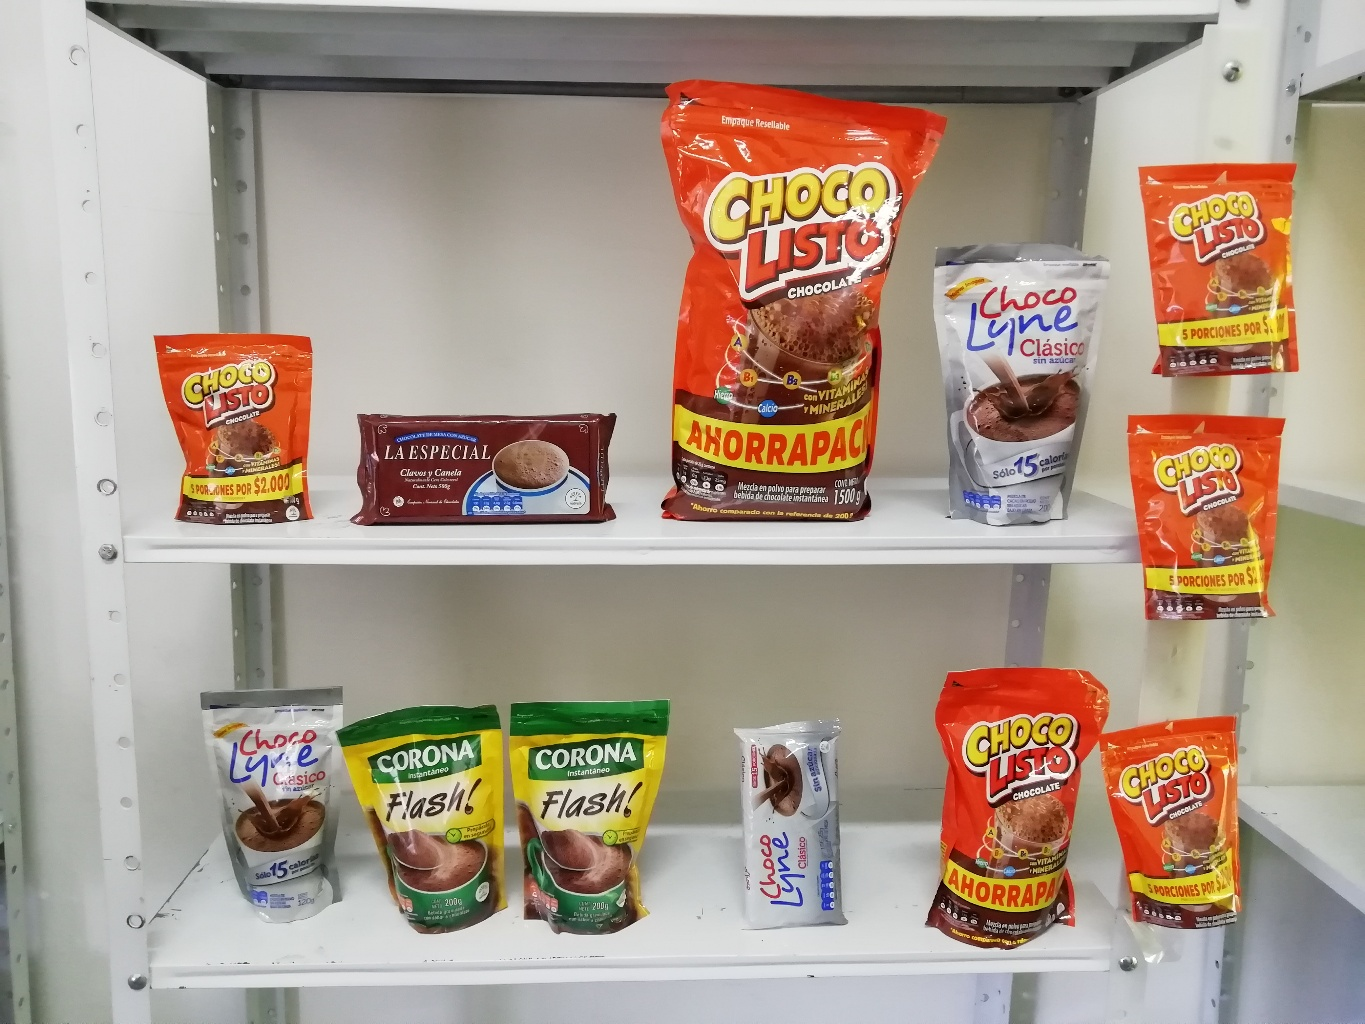COL0170103DYP1,500: (653, 80, 922, 527)
COL0170103DYP10000: (1107, 708, 1266, 929)
COL0170103DYP40000: (918, 663, 1101, 957)
